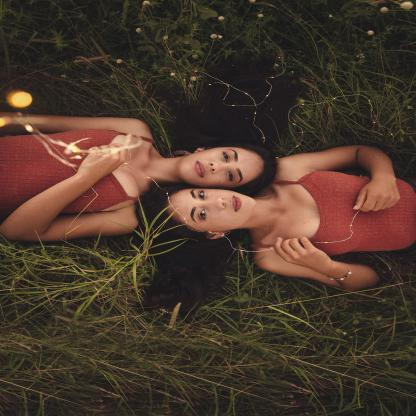Eye: (196, 208, 208, 222), (225, 168, 235, 182), (221, 151, 232, 163), (198, 190, 208, 201)
Mouth: (192, 160, 206, 180), (230, 195, 242, 213)
Nose: (210, 196, 226, 210), (206, 162, 223, 174)
